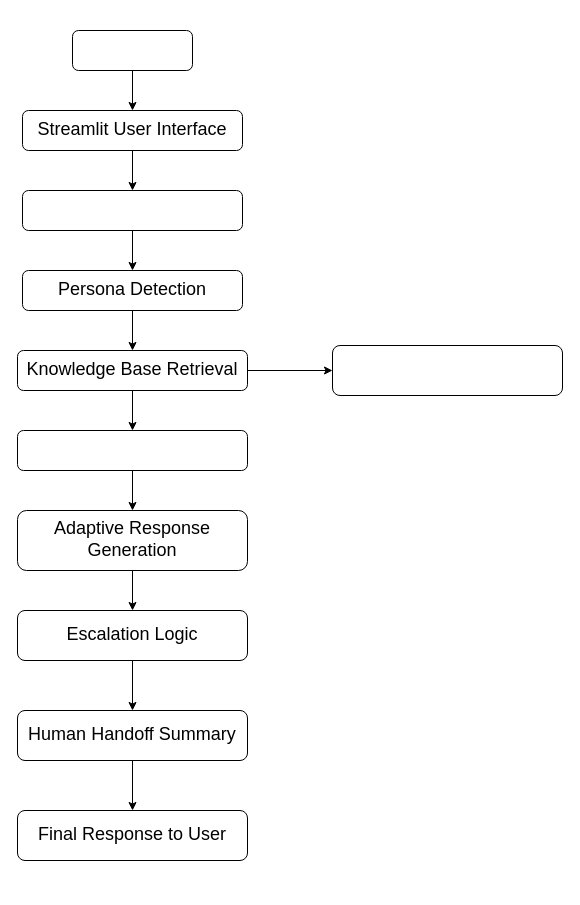
This 580x905 diagram has some shape labels left out. Here are the shapes that lost their labels. From the top down, the centre of each, then its label:
(x=132, y=50): User
(x=132, y=210): Greeting Detection
(x=447, y=370): Support Documents (TXT + PDF)
(x=132, y=450): Gemini API
